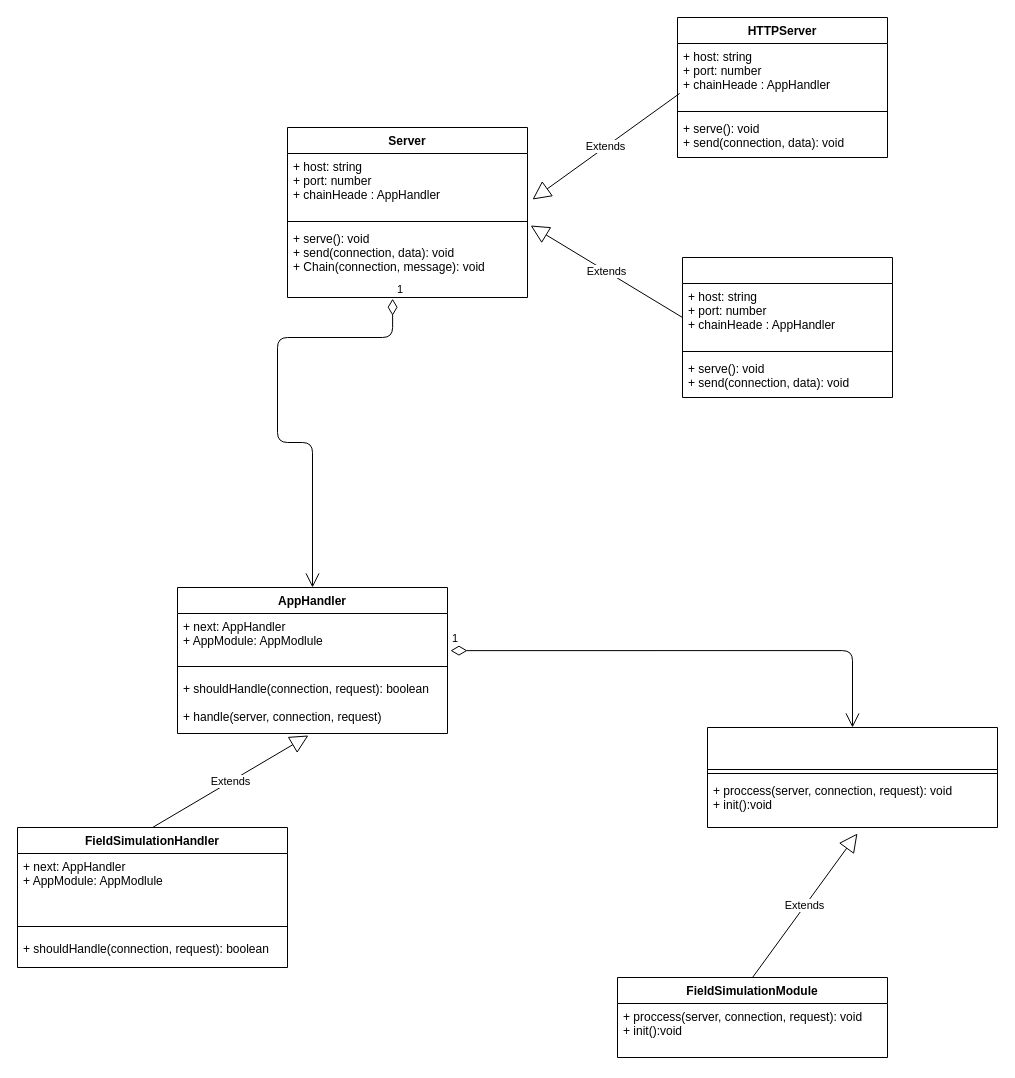
Some shapes in this 1015 by 1078 pixel diagram are drawn without their labels. The shapes that lost their labels are listed below. From the top down, each one's box as (x1, y1, x2, y2) in pixels, then its label:
(682, 256, 892, 398): TCPServer
(706, 726, 998, 828): «interface» AppModule
